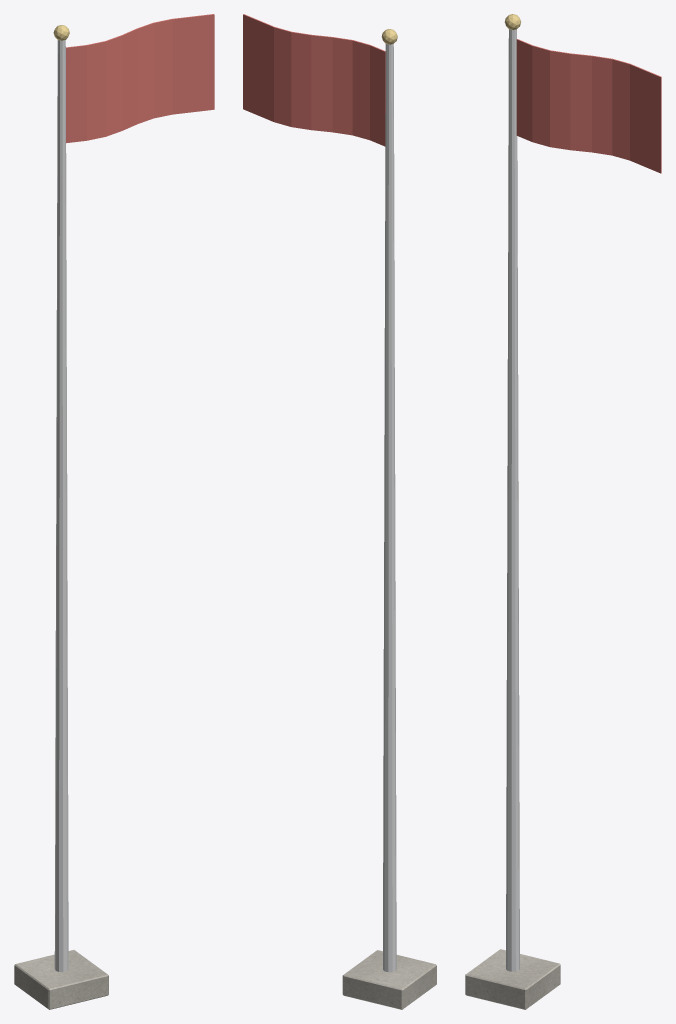
File: flagpole_r.glb
3 renders of one model, left to right at view 1: azimuth 30°, elevation 25°; view 2: azimuth 150°, elevation 25°; view 3: azimuth 330°, elevation 25°, orthographic.
Visible parts, largest first — view 1: flagpole_r_flag_r, flagpole_r_steel, flagpole_r_concrete; view 2: flagpole_r_flag_r, flagpole_r_steel, flagpole_r_concrete; view 3: flagpole_r_flag_r, flagpole_r_steel, flagpole_r_concrete.
Boxes of the visible parts, left/top/right/bottom form: flagpole_r_flag_r: left=66, top=14, right=214, bottom=143; flagpole_r_steel: left=54, top=40, right=68, bottom=971; flagpole_r_concrete: left=14, top=950, right=108, bottom=1009; flagpole_r_flag_r: left=243, top=14, right=385, bottom=146; flagpole_r_steel: left=383, top=44, right=396, bottom=972; flagpole_r_concrete: left=342, top=950, right=436, bottom=1009; flagpole_r_flag_r: left=516, top=39, right=661, bottom=173; flagpole_r_steel: left=506, top=29, right=519, bottom=971; flagpole_r_concrete: left=465, top=949, right=560, bottom=1009.
Bounding box in the file's own units: 1.78 × 9.12 × 0.6.
4 materials, 1 textured.
